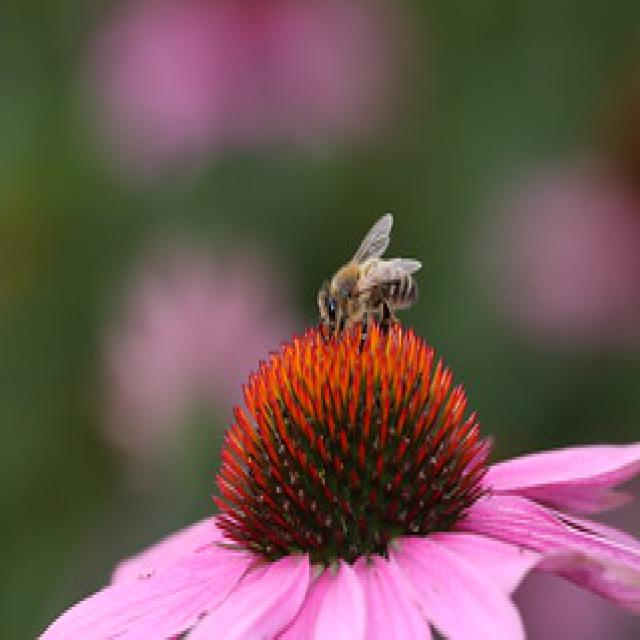Abeille: (306, 197, 434, 349)
